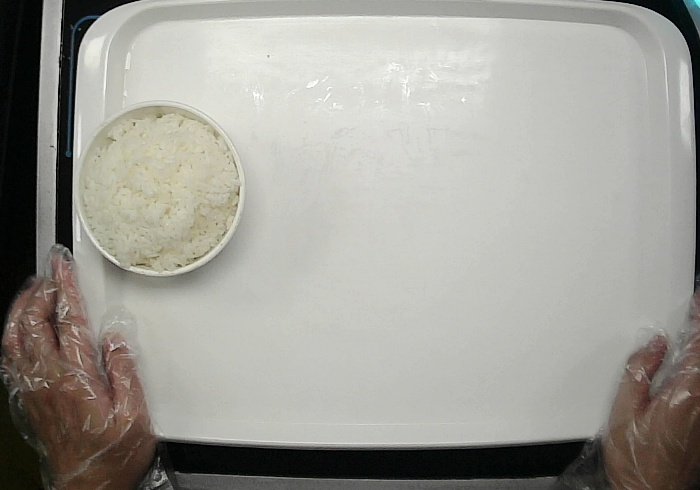HZYJPL-Fan_Wan: (72, 98, 247, 276)
